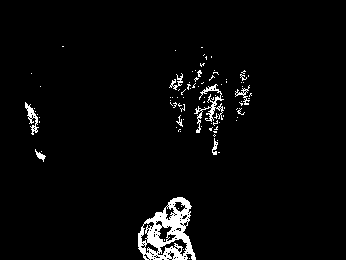person: (135, 197, 195, 260), (197, 84, 222, 156), (24, 102, 48, 161), (168, 72, 186, 134)
